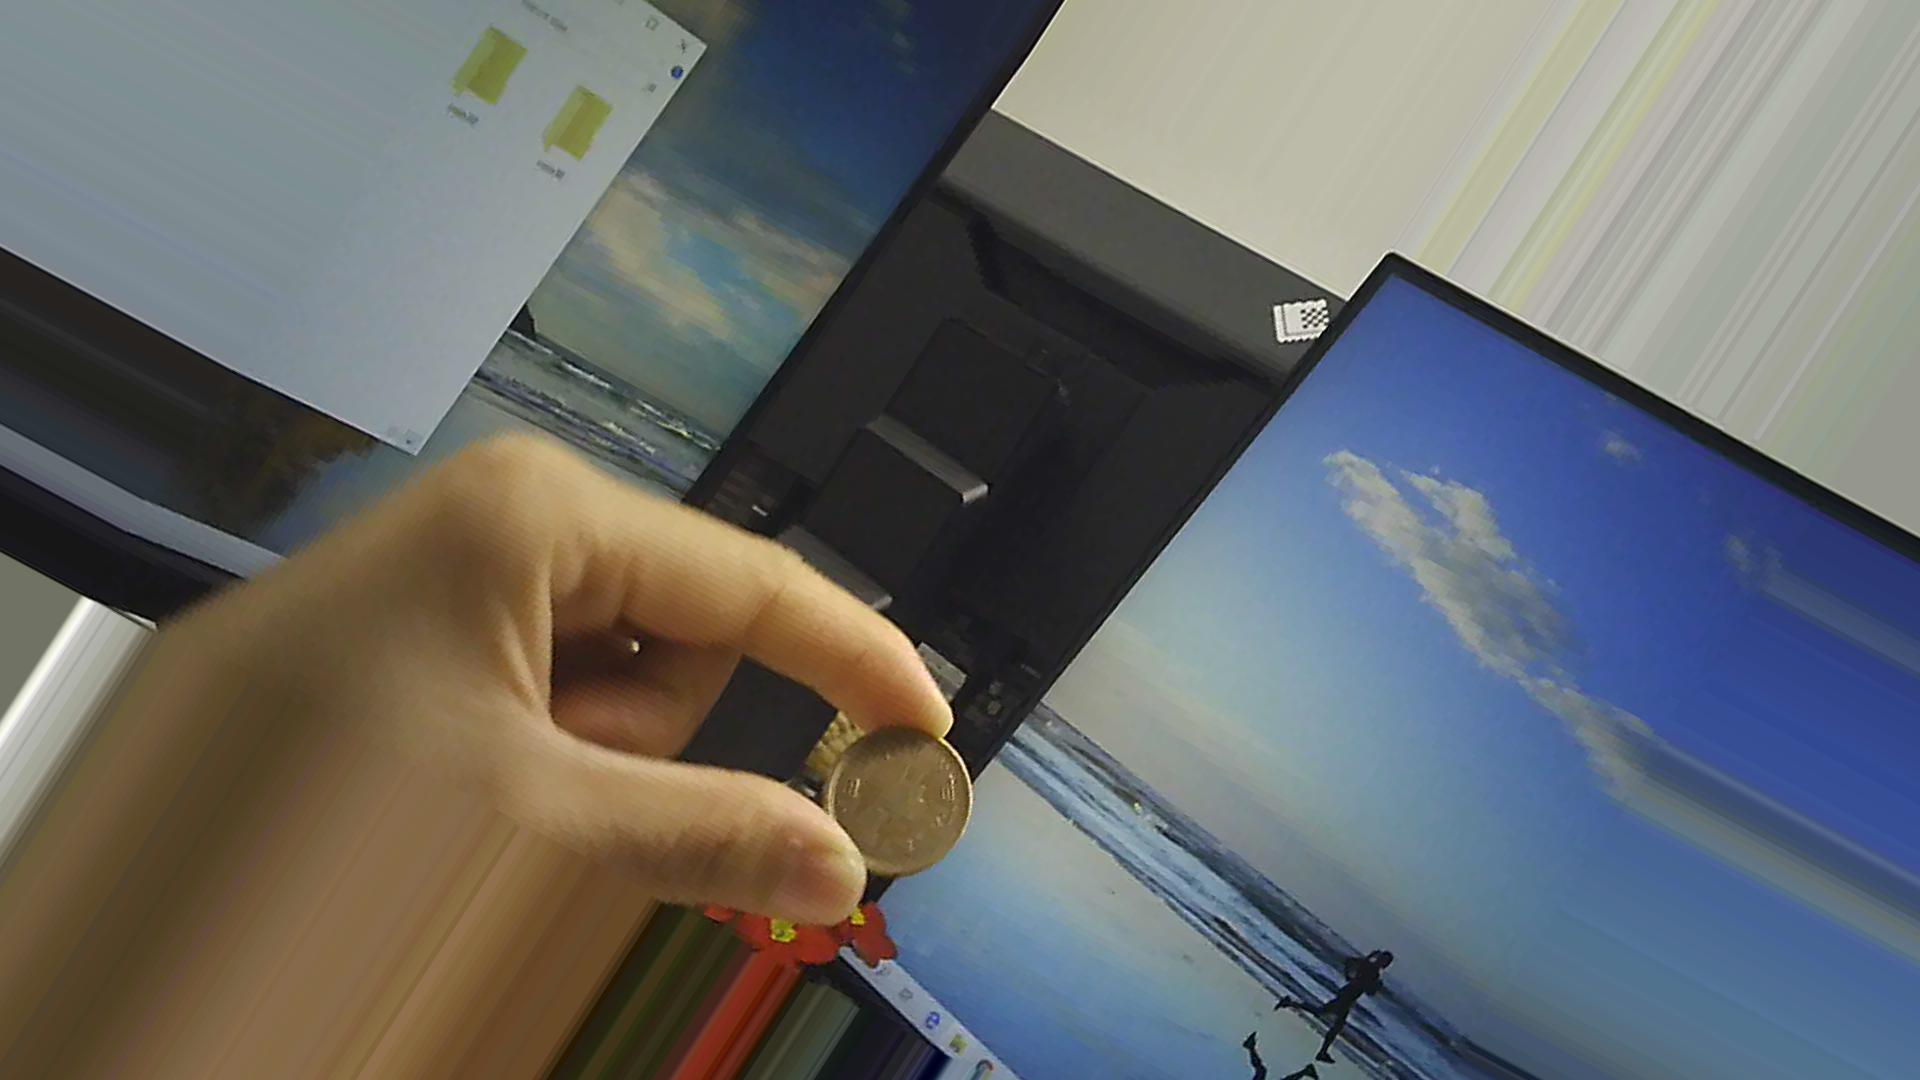10 Yen: (811, 716, 988, 869)
